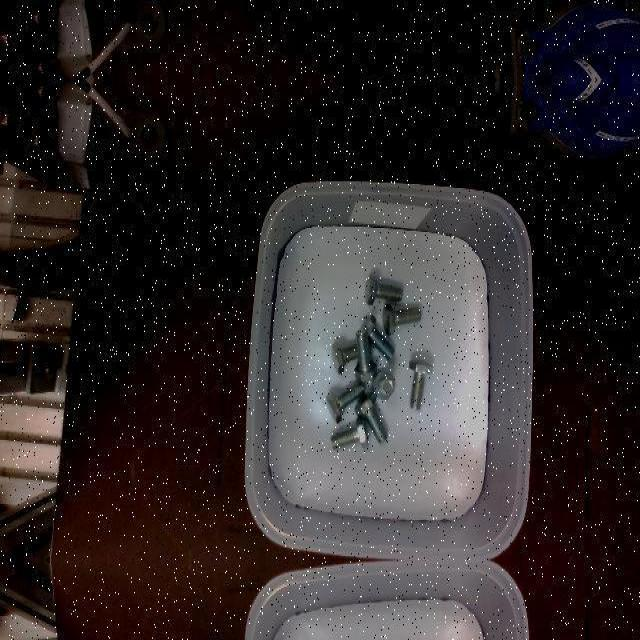screw: (354, 392, 388, 444), (326, 383, 364, 423), (330, 415, 368, 449), (408, 359, 432, 409), (354, 329, 377, 381), (382, 303, 421, 333), (365, 273, 402, 303), (372, 369, 395, 399)
